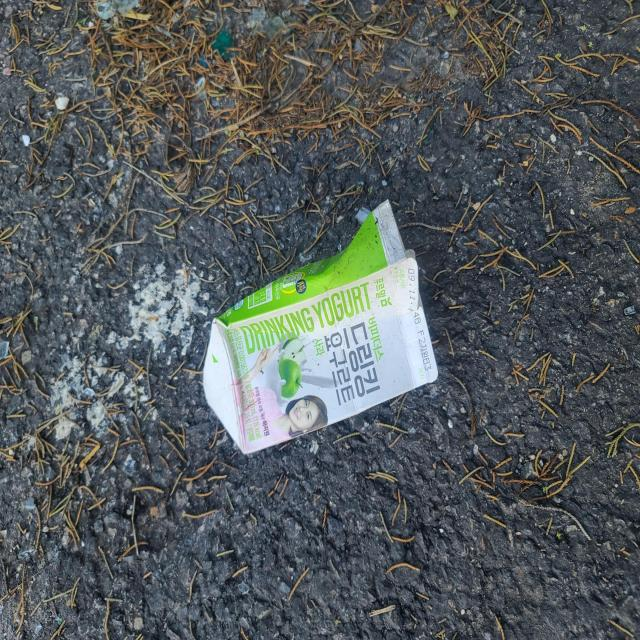paperpack: (203, 201, 438, 454)
